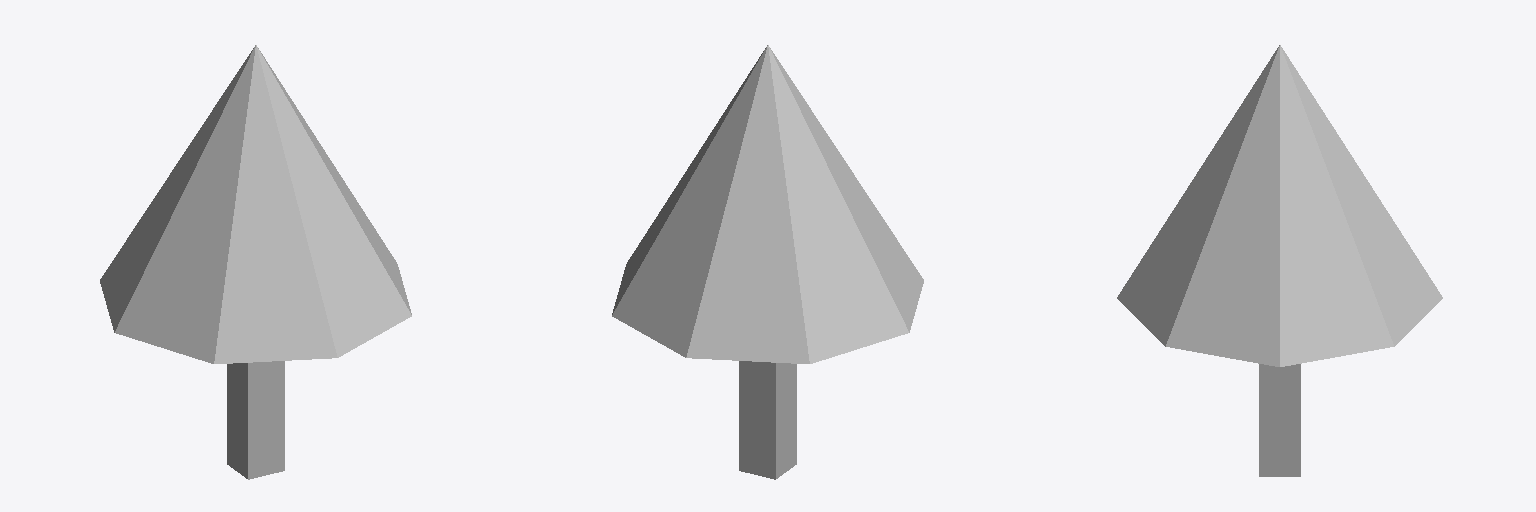
File: tree.obj
3 renders of one model, left to right at view 1: azimuth 30°, elevation 25°; view 2: azimuth 150°, elevation 25°; view 3: azimuth 270°, elevation 25°, orthographic.
Visible parts, largest first — view 1: Tree; view 2: Tree; view 3: Tree.
Boxes of the visible parts, box(x1,y1,x2,y2) form: Tree: box(100, 45, 411, 479); Tree: box(612, 45, 923, 479); Tree: box(1117, 45, 1442, 476).
Bounding box in the file's own units: 2.8 × 4 × 2.8.